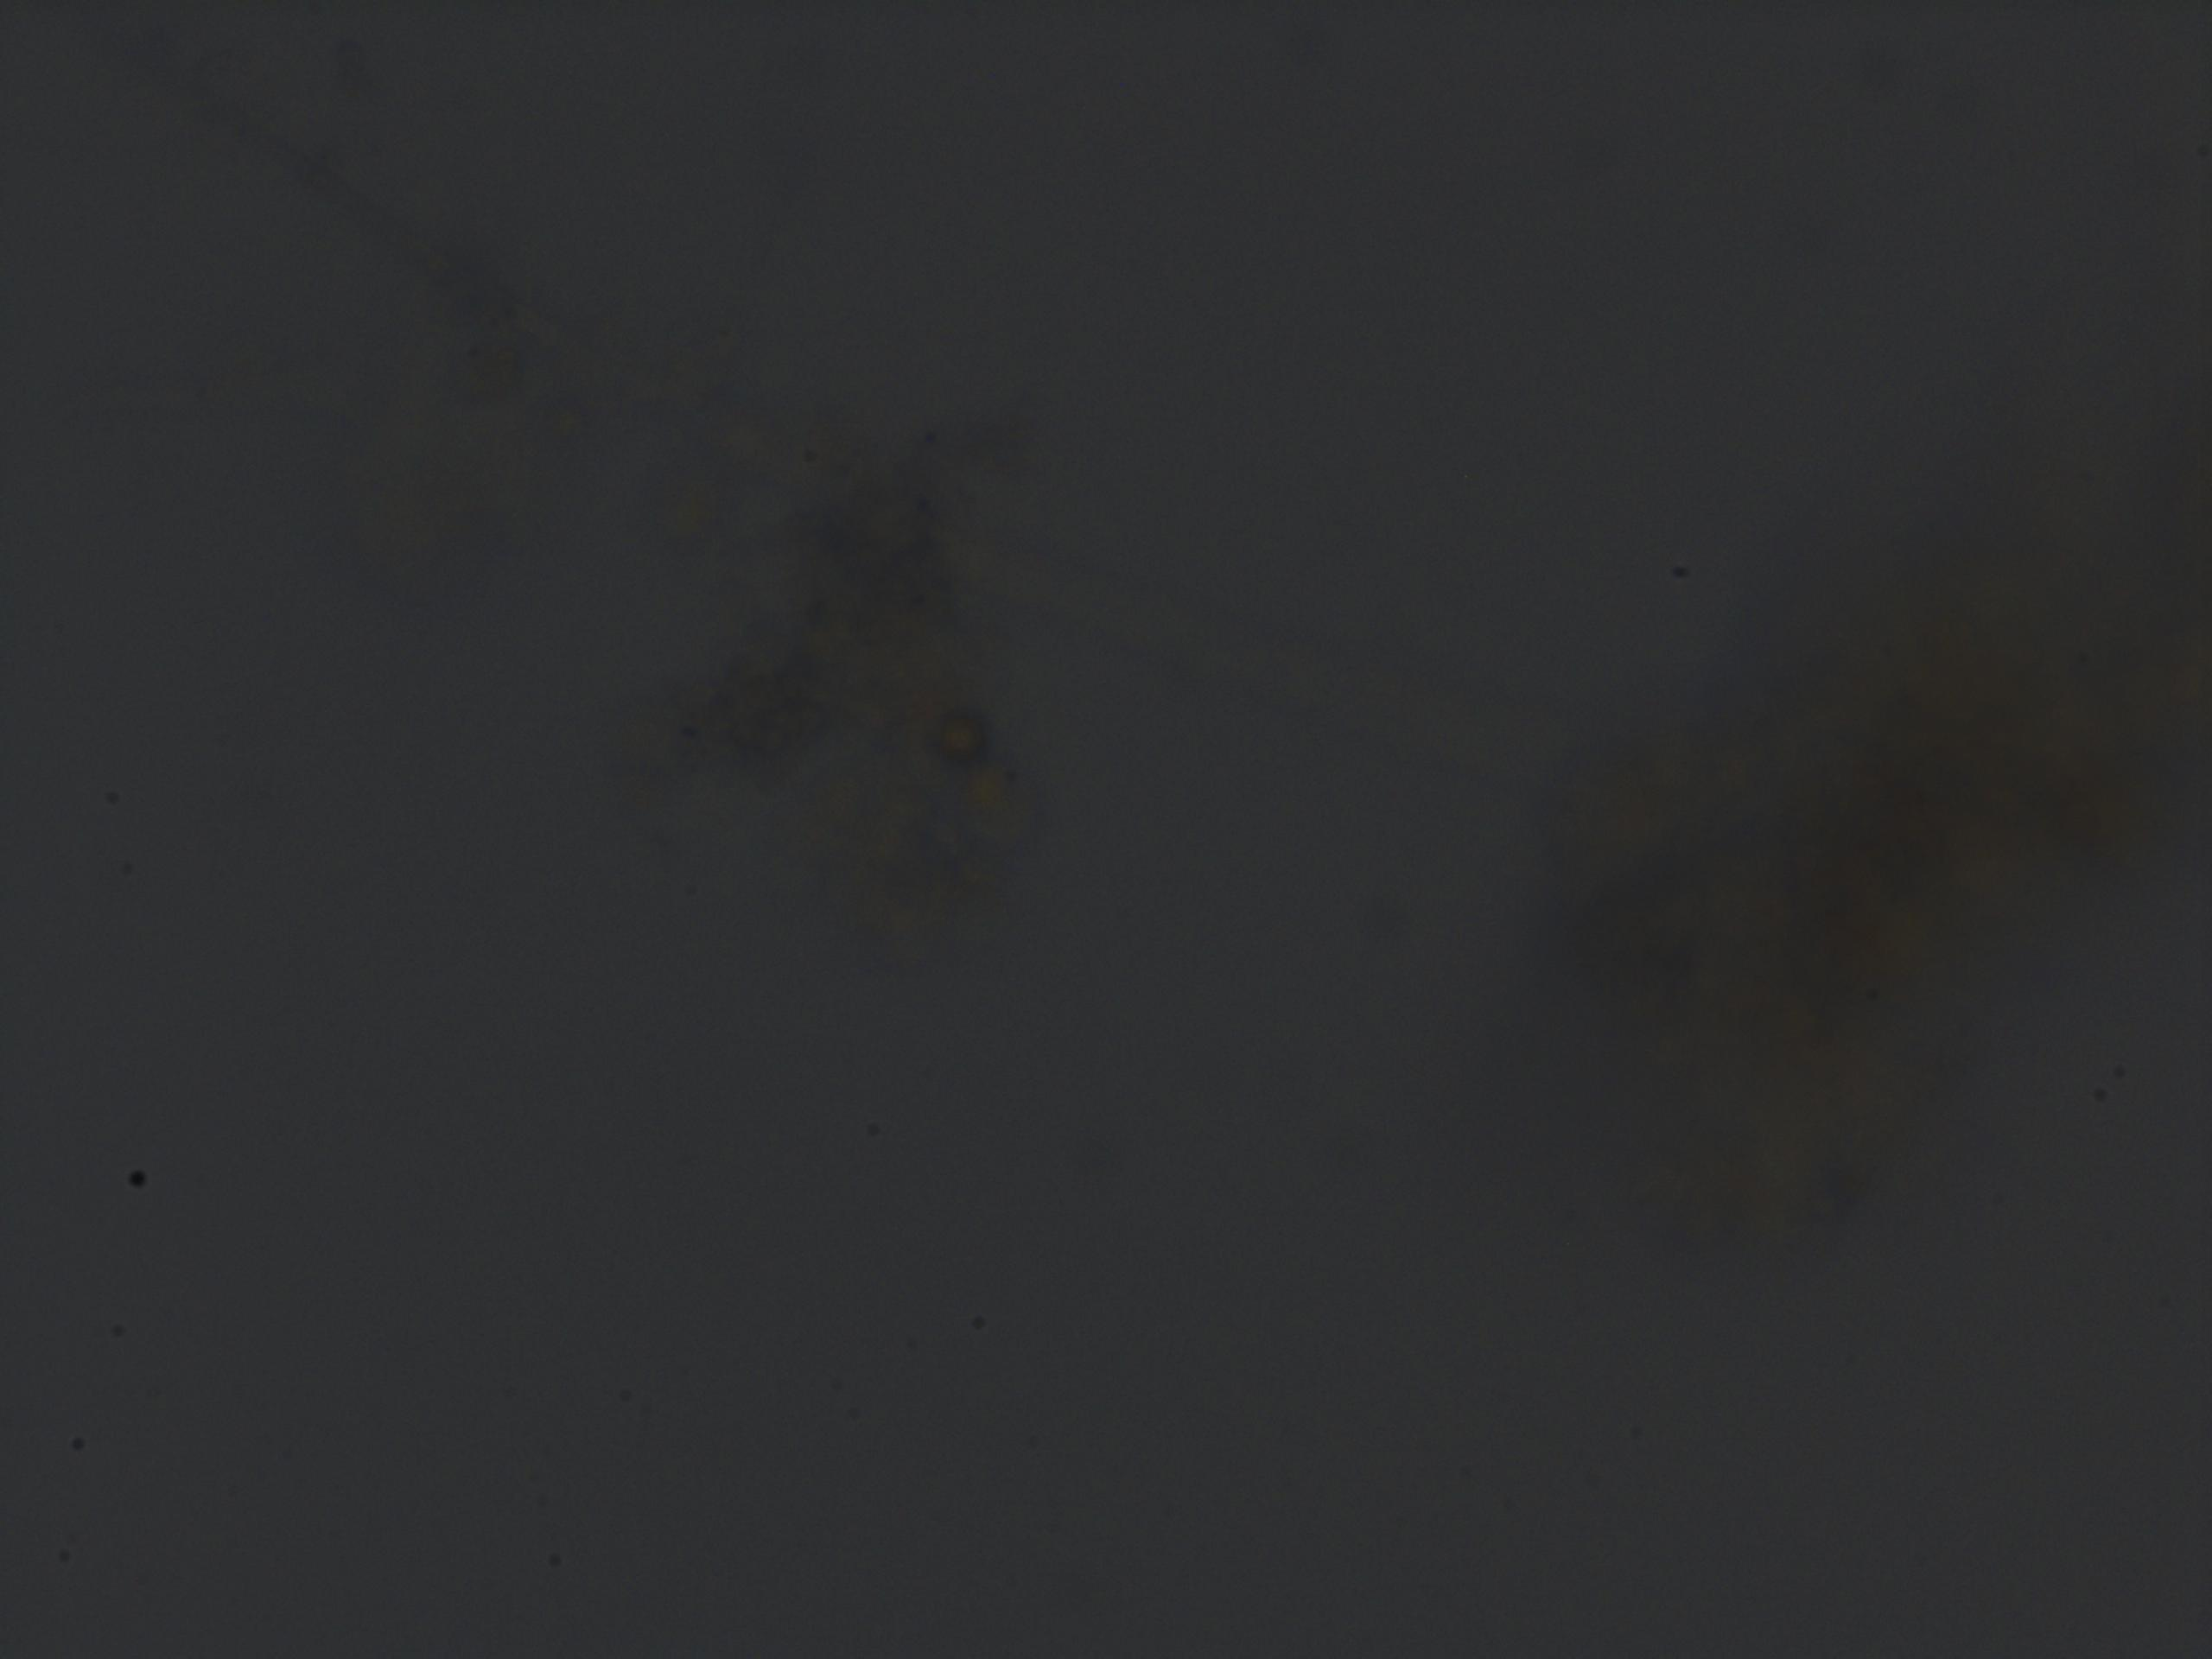filament: (28, 0, 1663, 843)
